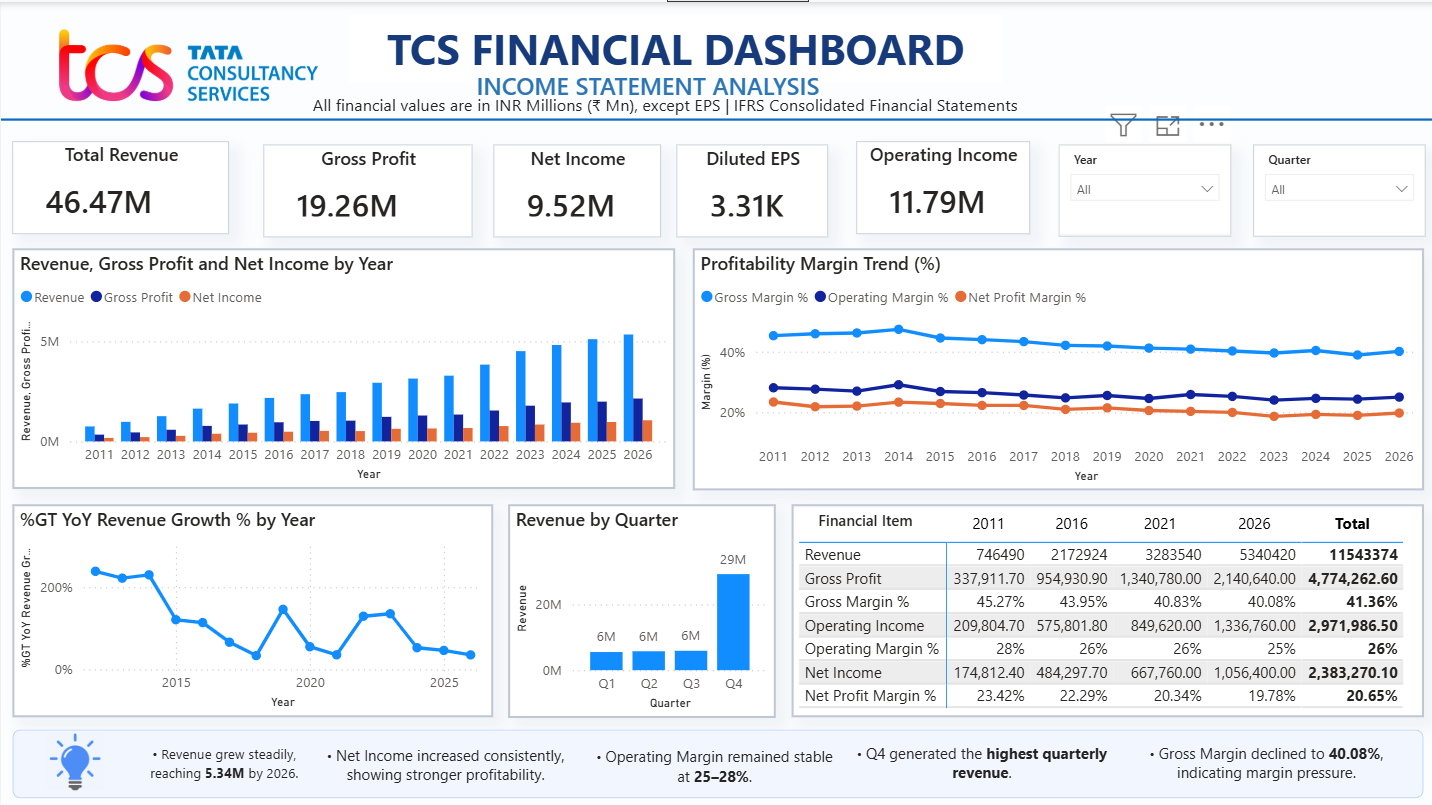

Layout of this report page (visuals, bound fields, positions):
{"tool":"powerbi","page":{"name":"Income Statement Analysis","canvas":[1280,720],"ordinal":1},"visuals":[{"type":"pivotTable","title":"Financial Item","fields":{"Columns":["IFRS-PnL,BS-INR.Year "],"Values":["IFRS-PnL,BS-INR.Revenue","IFRS-PnL,BS-INR.Gross Profit","IFRS-PnL,BS-INR.Gross Margin %","IFRS-PnL,BS-INR.Operating Income","IFRS-PnL,BS-INR.Operating Margin %","IFRS-PnL,BS-INR.Net Income","IFRS-PnL,BS-INR.Net Profit Margin %"]},"box":[705.1,448.4,564.4,189.9],"z":0},{"type":"cardVisual","title":"Total Revenue","fields":{"Data":["Sum(IFRS-PnL,BS-INR.Amount)"]},"box":[10.5,124.8,193.4,82.6],"z":1000},{"type":"cardVisual","title":"Gross Profit","fields":{"Data":["Sum(IFRS-PnL,BS-INR.Amount)"]},"box":[233.9,126.6,186.4,82.6],"z":2000},{"type":"cardVisual","title":"Net Income","fields":{"Data":["Sum(IFRS-PnL,BS-INR.Amount)"]},"box":[439.6,126.6,149.5,82.6],"z":3000},{"type":"cardVisual","title":"Diluted EPS","fields":{"Data":["Sum(IFRS-PnL,BS-INR.Amount)"]},"box":[603.1,126.6,135.4,82.6],"z":4000},{"type":"cardVisual","title":"Operating Income","fields":{"Data":["Sum(IFRS-PnL,BS-INR.Amount)"]},"box":[763.1,124.8,154.7,82.6],"z":5000},{"type":"image","box":[27.8,0,279.7,112.9],"z":6000},{"type":"textbox","box":[310.8,11.4,582.3,60.5],"z":7000},{"type":"textbox","box":[419.7,54.2,433.7,38.5],"z":8000},{"type":"slicer","fields":{"Values":["IFRS-PnL,BS-INR.Quarter"]},"box":[1116.5,126.6,154,82],"z":9000},{"type":"slicer","fields":{"Values":["IFRS-PnL,BS-INR.Year "]},"box":[944.2,126.6,154,82],"z":10000},{"type":"shape","box":[0,85,1280.6,39.3],"z":11000},{"type":"clusteredColumnChart","fields":{"Category":["IFRS-PnL,BS-INR.Year "],"Y":["IFRS-PnL,BS-INR.Revenue","IFRS-PnL,BS-INR.Gross Profit","IFRS-PnL,BS-INR.Net Income"]},"box":[10.5,220.3,591.1,215.1],"z":12000},{"type":"lineChart","title":"Profitability Margin Trend (%)","fields":{"Category":["IFRS-PnL,BS-INR.Year "],"Y":["IFRS-PnL,BS-INR.Gross Margin %","IFRS-PnL,BS-INR.Operating Margin %","IFRS-PnL,BS-INR.Net Profit Margin %"]},"box":[617.2,219.8,652.3,216.3],"z":13000},{"type":"lineChart","fields":{"Category":["Calendar.Year"],"Y":["IFRS-PnL,BS-INR.YoY Revenue Growth %"]},"box":[10.5,448.4,429,189.9],"z":14000},{"type":"clusteredColumnChart","fields":{"Y":["IFRS-PnL,BS-INR.Revenue"],"Category":["Calendar.Quarter"]},"box":[452.9,447.7,239,190.6],"z":15000},{"type":"textbox","box":[724.4,448.4,102,36.9],"z":16000},{"type":"shape","box":[10.5,648.8,1259,61.5],"z":17000},{"type":"image","box":[40.4,648.8,51,58],"z":18000},{"type":"textbox","box":[107.3,655.9,184.6,63.3],"z":19000},{"type":"textbox","box":[279.6,657.6,235.6,52.7],"z":20000},{"type":"textbox","box":[518.7,659.4,235.6,52.7],"z":21000},{"type":"textbox","box":[757.8,655.9,235.6,52.7],"z":22000},{"type":"textbox","box":[1005.8,655.9,246.2,52.7],"z":23000},{"type":"textbox","box":[273,77.2,655.1,39.5],"z":24000}]}

Visuals, with their boxes in screenshot pixels (x1, y1, x2, y2), scaled from the page's 1280x720 canvas onto the 1432x805 screenshot:
"Financial Item" pivotTable: (789,501,1420,714)
"Total Revenue" cardVisual: (12,140,228,232)
"Gross Profit" cardVisual: (262,142,470,234)
"Net Income" cardVisual: (492,142,659,234)
"Diluted EPS" cardVisual: (675,142,826,234)
"Operating Income" cardVisual: (854,140,1027,232)
image: (31,0,344,126)
textbox: (348,13,999,80)
textbox: (470,61,955,104)
slicer - IFRS-PnL,BS-INR.Quarter: (1249,142,1421,233)
slicer - IFRS-PnL,BS-INR.Year : (1056,142,1229,233)
shape: (0,95,1431,139)
clusteredColumnChart - IFRS-PnL,BS-INR.Year  x IFRS-PnL,BS-INR.Revenue: (12,246,673,487)
"Profitability Margin Trend (%)" lineChart: (690,246,1420,488)
lineChart - Calendar.Year x IFRS-PnL,BS-INR.YoY Revenue Growth %: (12,501,492,714)
clusteredColumnChart - IFRS-PnL,BS-INR.Revenue x Calendar.Quarter: (507,501,774,714)
textbox: (810,501,925,543)
shape: (12,725,1420,794)
image: (45,725,102,790)
textbox: (120,733,327,804)
textbox: (313,735,576,794)
textbox: (580,737,844,796)
textbox: (848,733,1111,792)
textbox: (1125,733,1401,792)
textbox: (305,86,1038,130)
